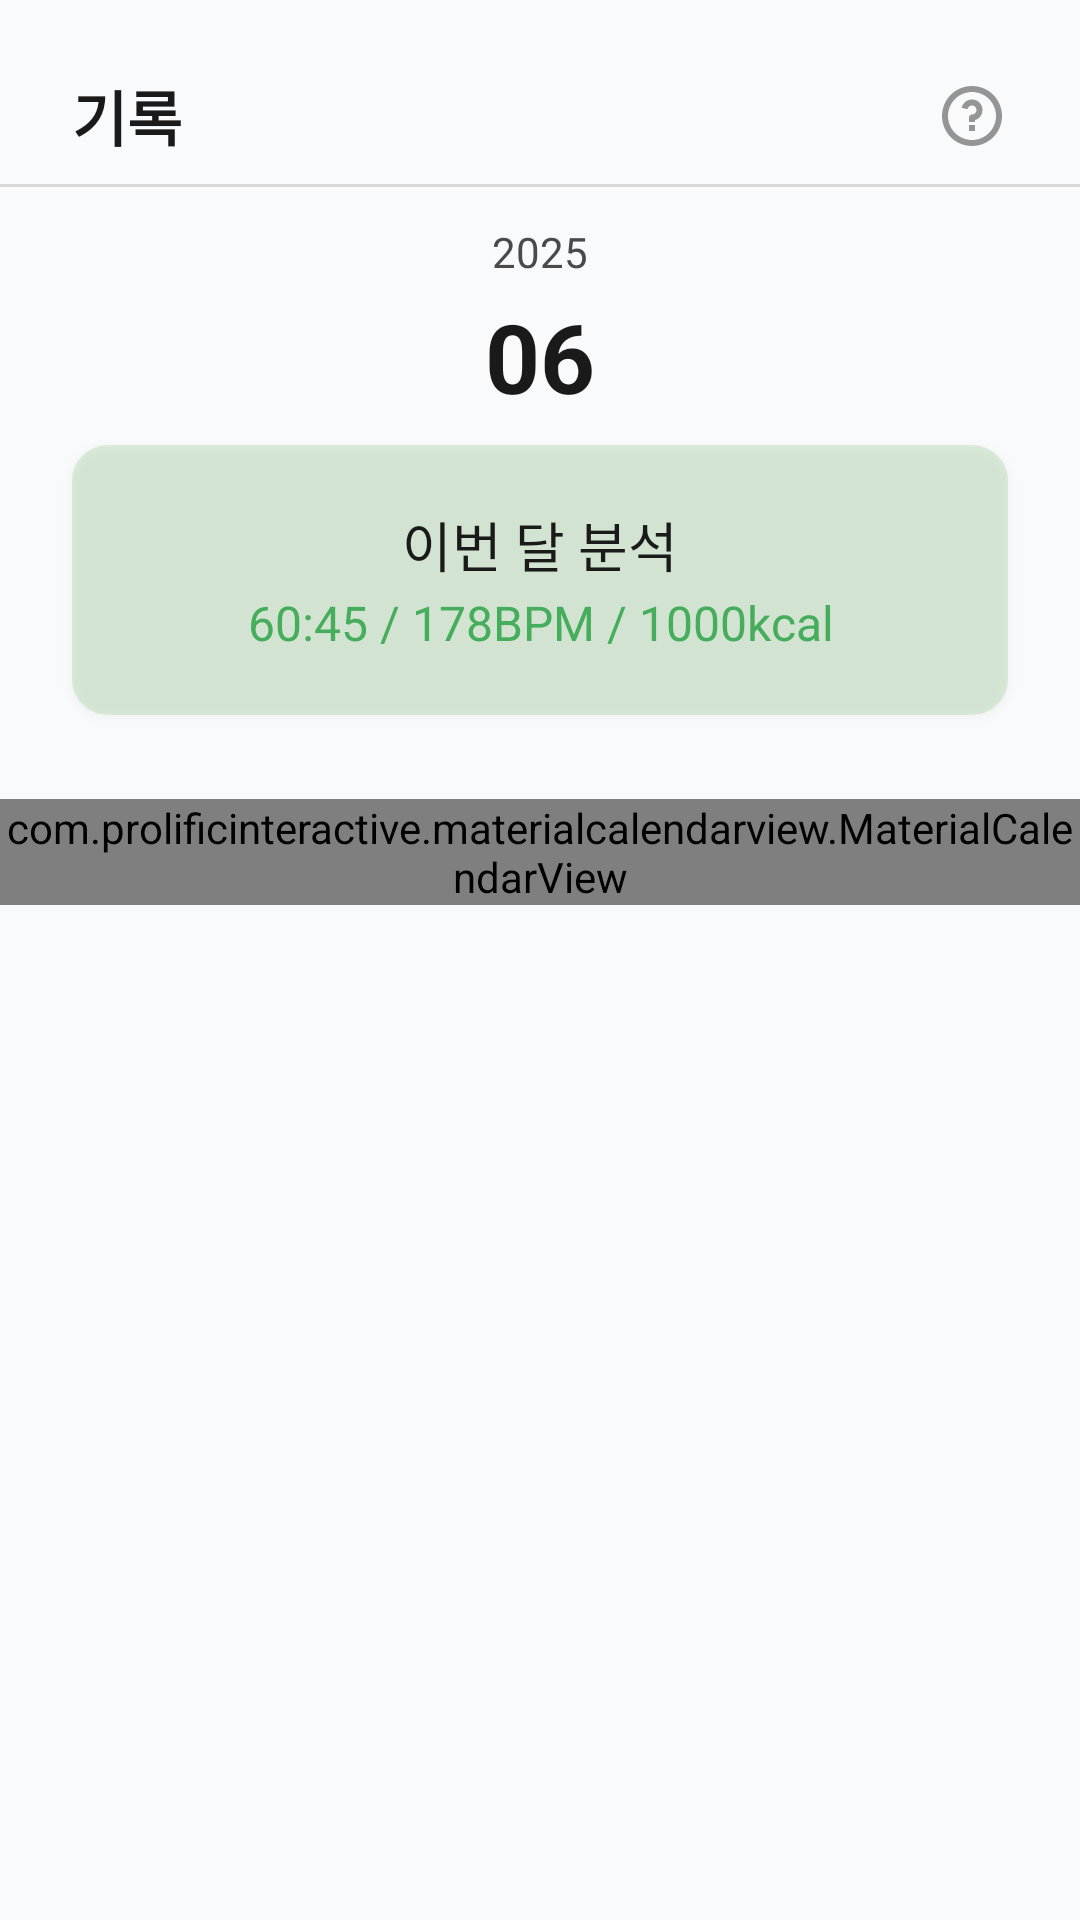

Where icons sit on this 1080px×1920px app screen, as (x1, y1, x2, y2):
ri question line: (942, 86, 1002, 146)
